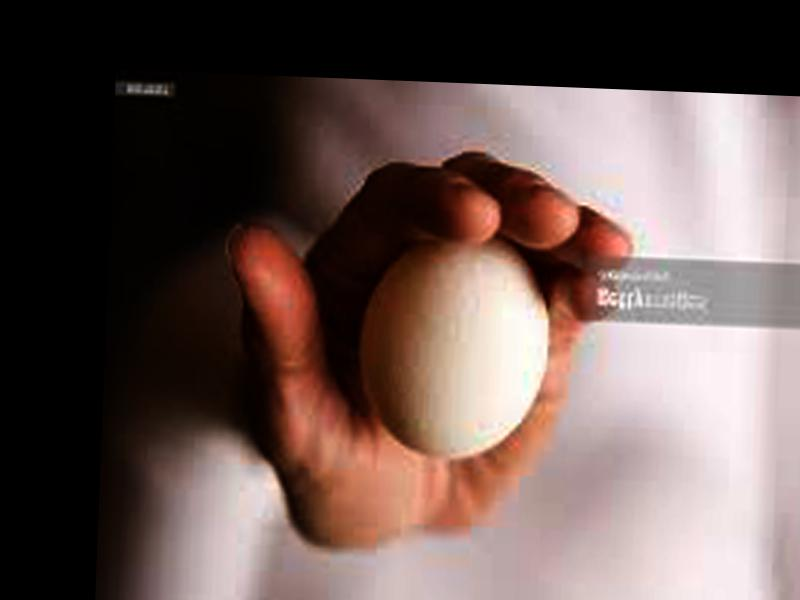Eggs: (351, 232, 552, 459)
